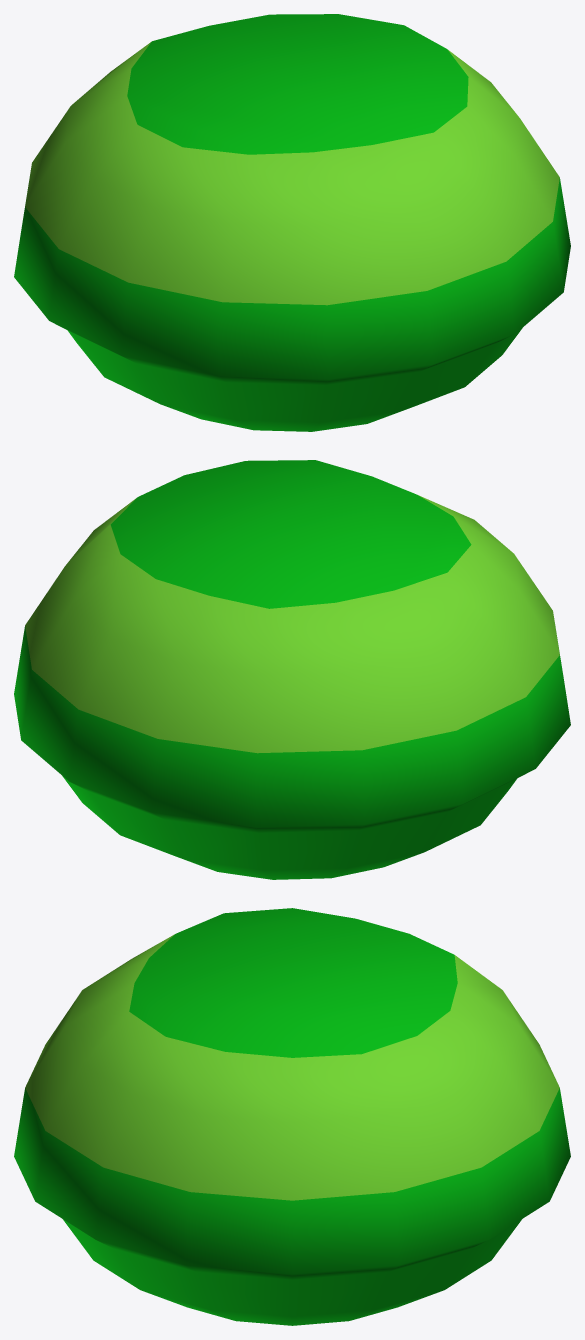
File: bush-spheric.fbx
3 views of the same model, one above another, from view 1: azimuth 30°, elevation 25°; view 2: azimuth 150°, elevation 25°; view 3: azimuth 270°, elevation 25° (orthographic).
Parts seen in each view (by area): view 1: bush-spheric; view 2: bush-spheric; view 3: bush-spheric.
Boxes of the visible parts, <box> form: bush-spheric: <box>14,14,570,431</box>; bush-spheric: <box>14,460,570,879</box>; bush-spheric: <box>14,908,570,1325</box>.
Size of the model in its own units: 1.06 by 0.5864 by 1.06.
